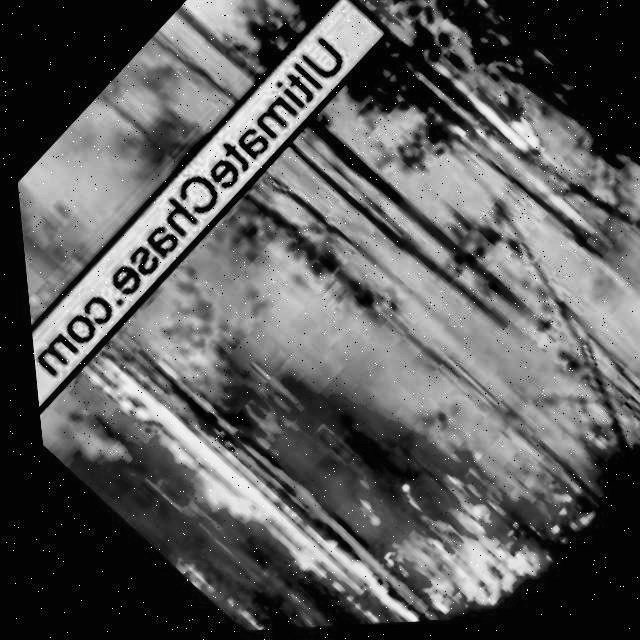Fire: (57, 328, 341, 616), (258, 480, 540, 631), (437, 55, 577, 194), (162, 551, 278, 635), (328, 0, 411, 45)
Smoke: (2, 0, 640, 640), (0, 0, 372, 379)
